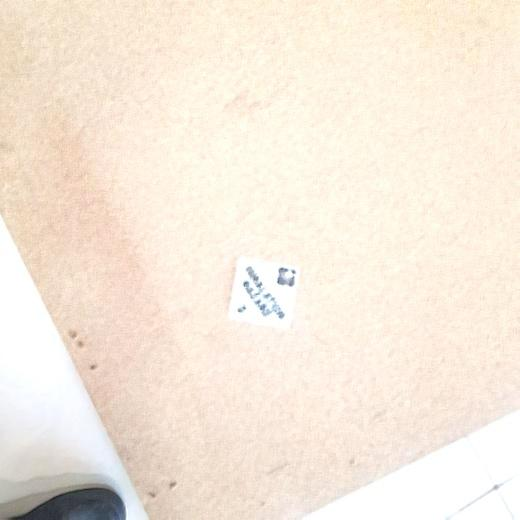poison: (233, 260, 303, 327)
